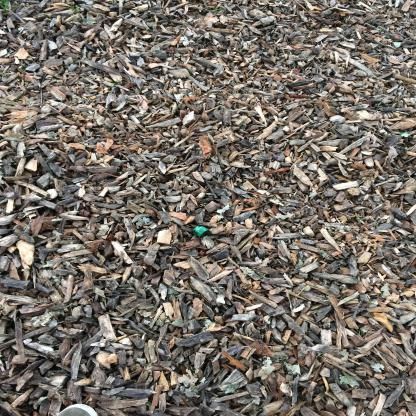plastik: (192, 226, 209, 237)
